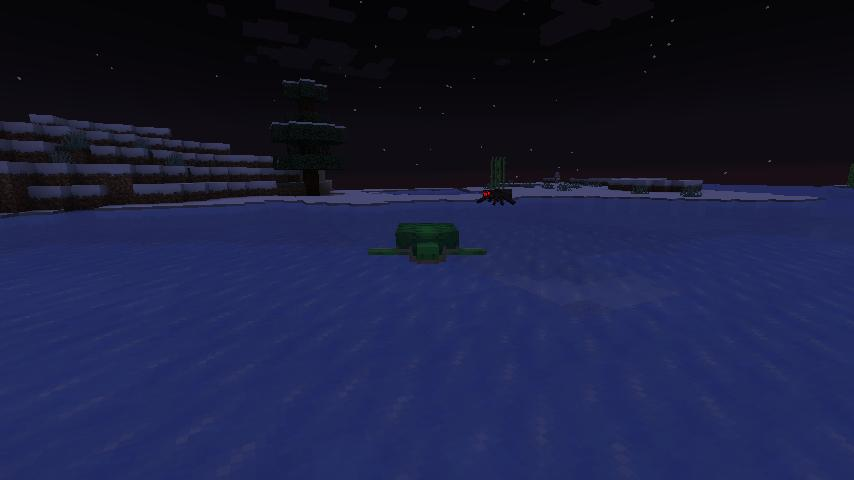spider: (477, 186, 518, 209)
turtle: (369, 217, 489, 267)
